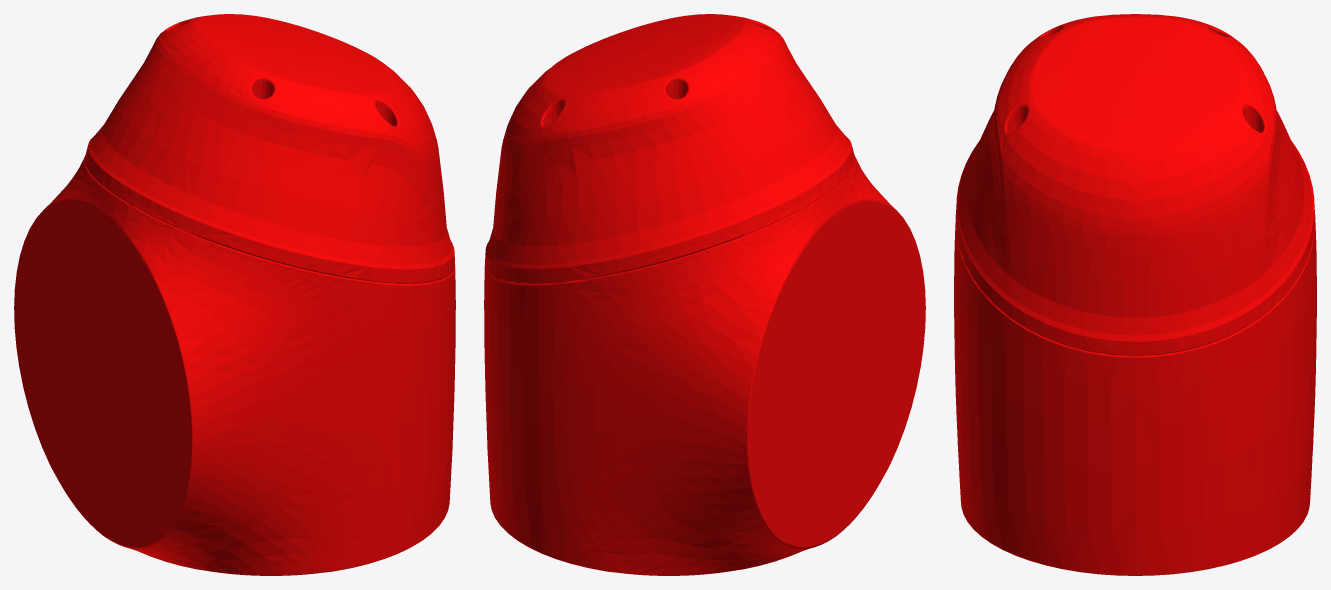
3 renders of one model, left to right at view 1: azimuth 30°, elevation 25°; view 2: azimuth 150°, elevation 25°; view 3: azimuth 270°, elevation 25°, orthographic. The views are drawn at different scales.
Visible parts, largest first — view 1: A0509_2_2; view 2: A0509_2_2; view 3: A0509_2_2.
Part boxes in pixels (box(x1,y1,x2,y2)): A0509_2_2: box(14, 14, 455, 575); A0509_2_2: box(484, 14, 925, 575); A0509_2_2: box(954, 14, 1316, 575).
Bounding box in the file's own units: 125 × 122 × 170.
